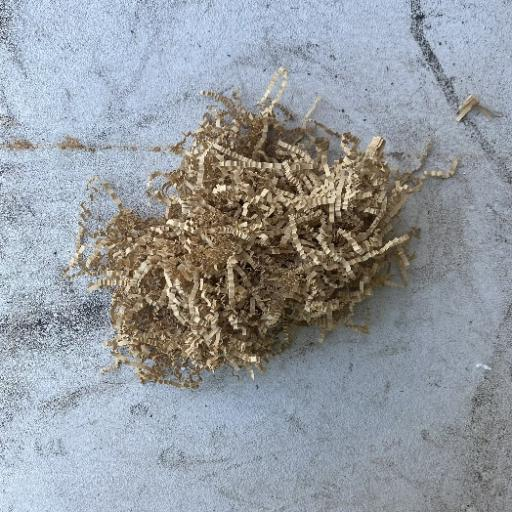Cardboard: (62, 65, 459, 390)
